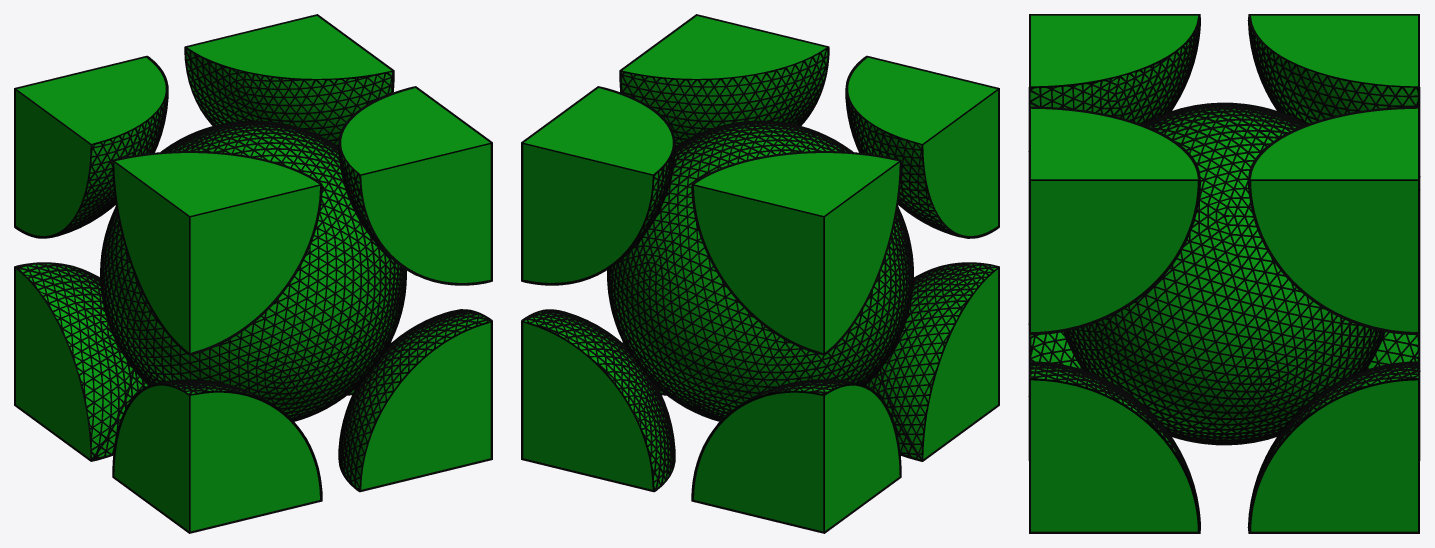
File: BCC.glb
3 views of the same model, side by side, from view 1: azimuth 30°, elevation 25°; view 2: azimuth 150°, elevation 25°; view 3: azimuth 270°, elevation 25° (orthographic). The views are drawn at different scales.
Visible parts, largest first — view 1: Icosphere.001; view 2: Icosphere.001; view 3: Icosphere.001.
Boxes of the visible parts, box(x1,y1,x2,y2) form: Icosphere.001: box(14, 14, 492, 533); Icosphere.001: box(521, 14, 999, 533); Icosphere.001: box(1028, 14, 1420, 533).
Size of the model in its own units: 2.01 by 2.02 by 2.02.
